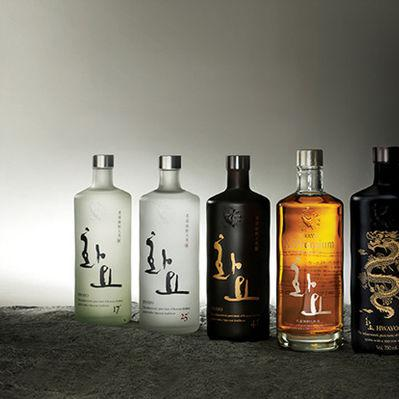soju: (71, 143, 398, 360)
